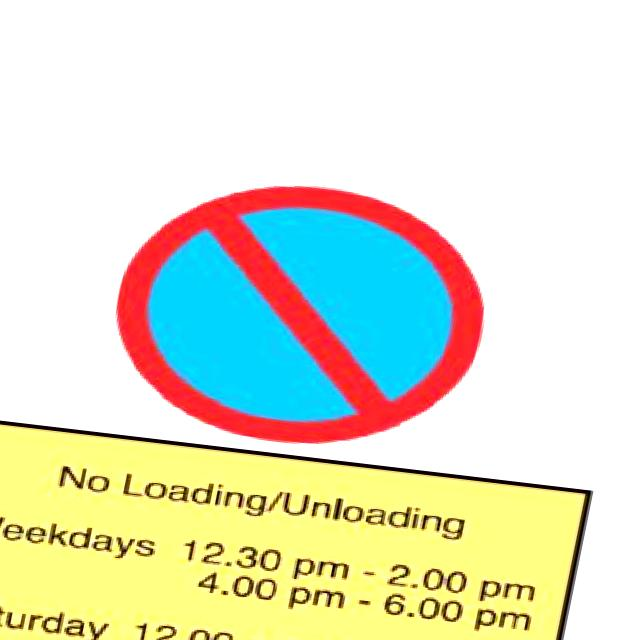forb_stopping: (121, 187, 486, 442)
